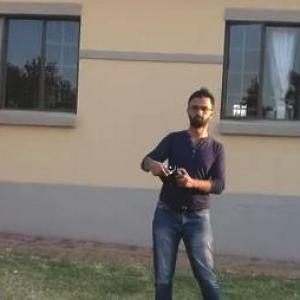follow: (135, 80, 234, 299)
